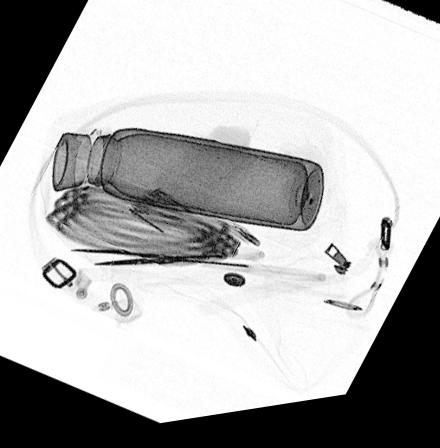Scissors: (69, 250, 325, 295)
